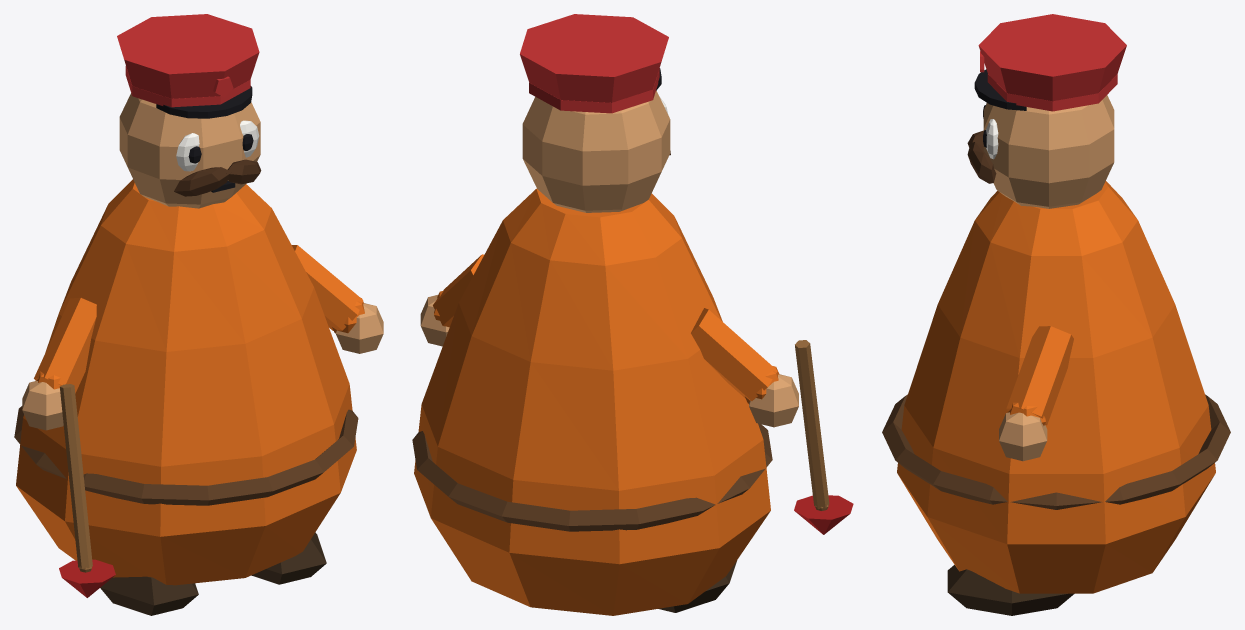
The model's file is npc_plomero.glb.
3 renders of one model, left to right at view 1: azimuth 30°, elevation 25°; view 2: azimuth 150°, elevation 25°; view 3: azimuth 270°, elevation 25°, orthographic. The views are drawn at different scales.
Parts seen in each view (by area): view 1: body_overalls_orange, cap_cap_red (×2), head_skin_arena, body_tool_belt, arms_overalls_orange, legs_boots, arms_skin_arena, props_plunger_stick, face_hair_brown, props_plunger_red, cap_black, face_white; view 2: body_overalls_orange, head_skin_arena, cap_cap_red (×2), body_tool_belt, arms_overalls_orange, props_plunger_stick, arms_skin_arena, props_plunger_red, legs_boots; view 3: body_overalls_orange, head_skin_arena, cap_cap_red (×2), body_tool_belt, arms_overalls_orange, legs_boots, arms_skin_arena, face_hair_brown, cap_black.
Boxes of the visible parts, x1=… form: body_overalls_orange: x1=16, y1=179, x2=356, y2=585; cap_cap_red (×2): x1=117, y1=14, x2=259, y2=107; head_skin_arena: x1=119, y1=93, x2=260, y2=208; body_tool_belt: x1=14, y1=406, x2=358, y2=505; arms_overalls_orange: x1=34, y1=245, x2=364, y2=393; legs_boots: x1=100, y1=532, x2=326, y2=615; arms_skin_arena: x1=22, y1=303, x2=383, y2=430; props_plunger_stick: x1=60, y1=384, x2=92, y2=572; face_hair_brown: x1=174, y1=159, x2=261, y2=196; props_plunger_red: x1=59, y1=559, x2=115, y2=597; cap_black: x1=156, y1=86, x2=252, y2=118; face_white: x1=176, y1=120, x2=259, y2=171; body_overalls_orange: x1=414, y1=188, x2=770, y2=615; head_skin_arena: x1=522, y1=91, x2=670, y2=212; cap_cap_red (×2): x1=520, y1=14, x2=668, y2=113; body_tool_belt: x1=412, y1=423, x2=772, y2=531; arms_overalls_orange: x1=433, y1=254, x2=779, y2=403; props_plunger_stick: x1=795, y1=340, x2=829, y2=510; arms_skin_arena: x1=420, y1=295, x2=798, y2=427; props_plunger_red: x1=794, y1=495, x2=853, y2=534; legs_boots: x1=658, y1=560, x2=737, y2=612; body_overalls_orange: x1=897, y1=181, x2=1215, y2=593; head_skin_arena: x1=983, y1=95, x2=1114, y2=208; cap_cap_red (×2): x1=978, y1=14, x2=1126, y2=111; body_tool_belt: x1=882, y1=394, x2=1230, y2=509; arms_overalls_orange: x1=1006, y1=326, x2=1073, y2=425; legs_boots: x1=947, y1=565, x2=1074, y2=615; arms_skin_arena: x1=999, y1=412, x2=1047, y2=461; face_hair_brown: x1=967, y1=130, x2=996, y2=183; cap_black: x1=974, y1=69, x2=1026, y2=110.
Bounding box in the file's own units: 1.14 × 1.58 × 0.94.
